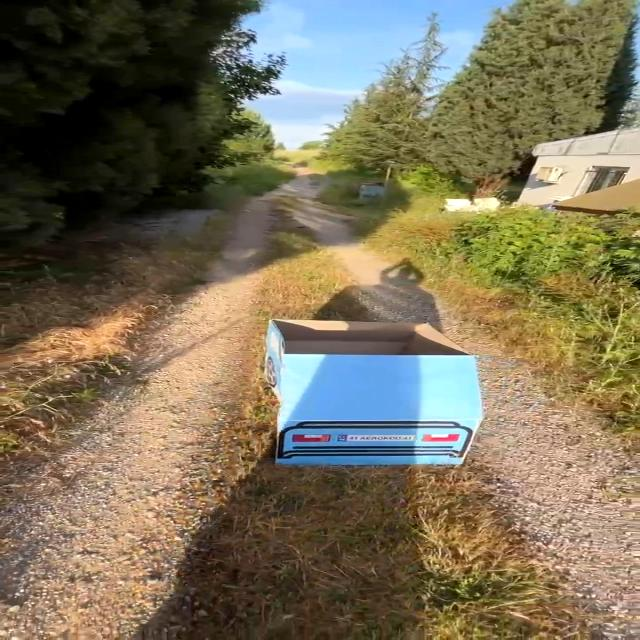blue_car: (224, 296, 509, 487)
